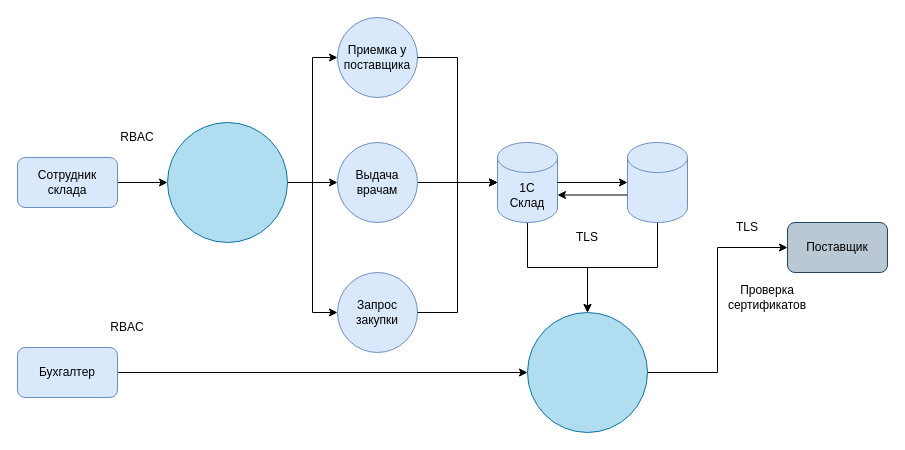
Image size: 905x450. Some labels were removed from this diagram. The centre of each missing label's shape, as x and y in pixels:
"1С Бухгал-терия" belongs at point 657,182.
"Оформление закупки" belongs at point 587,372.
"Управление расходными материалами" belongs at point 227,182.
